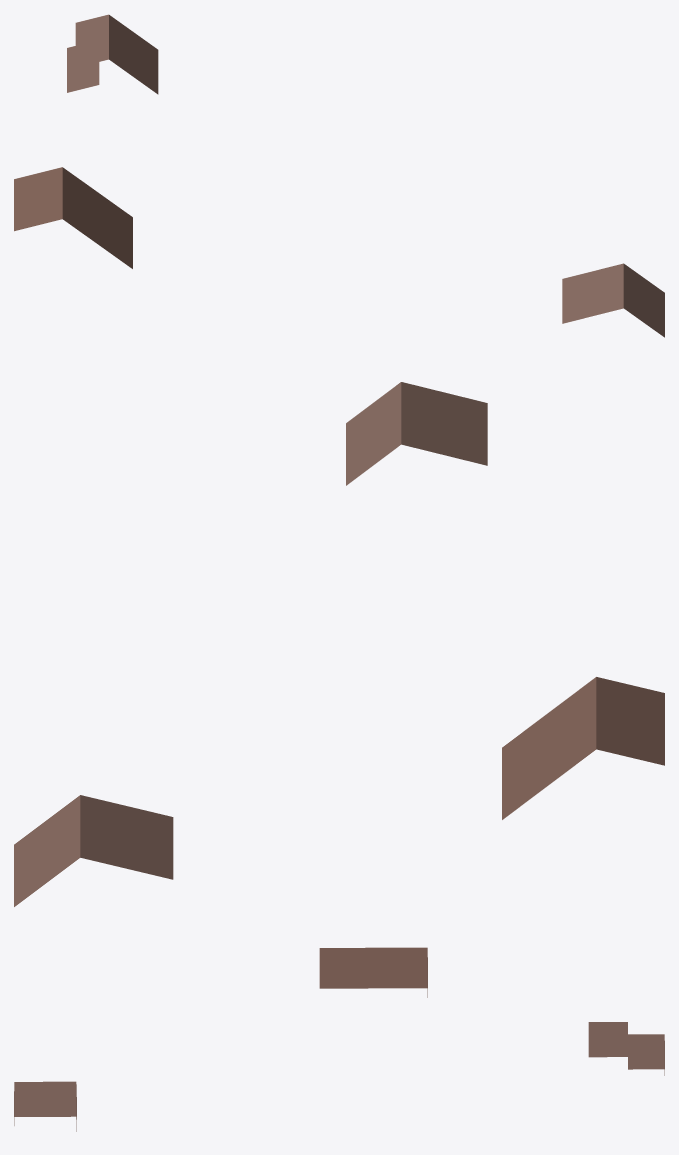
The model's file is c_1631_17823_buildings_residential.glb.
3 renders of one model, top to bottom at view 1: azimuth 30°, elevation 25°; view 2: azimuth 150°, elevation 25°; view 3: azimuth 270°, elevation 25°, orthographic. The views are drawn at different scales.
Visible parts, largest first — view 1: geometry_0; view 2: geometry_0; view 3: geometry_0.
Boxes of the visible parts, left/top/right/bottom form: geometry_0: left=14, top=14, right=664, bottom=337; geometry_0: left=14, top=382, right=664, bottom=906; geometry_0: left=14, top=947, right=664, bottom=1131.
Bounding box in the file's own units: 85.33 × 12.54 × 160.
